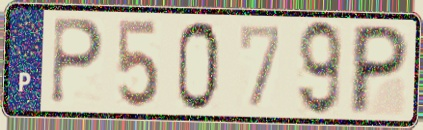0: (175, 18, 224, 113)
5: (115, 16, 162, 110)
7: (237, 22, 283, 112)
9: (296, 18, 344, 120)
P: (345, 21, 412, 117), (48, 15, 106, 108)
